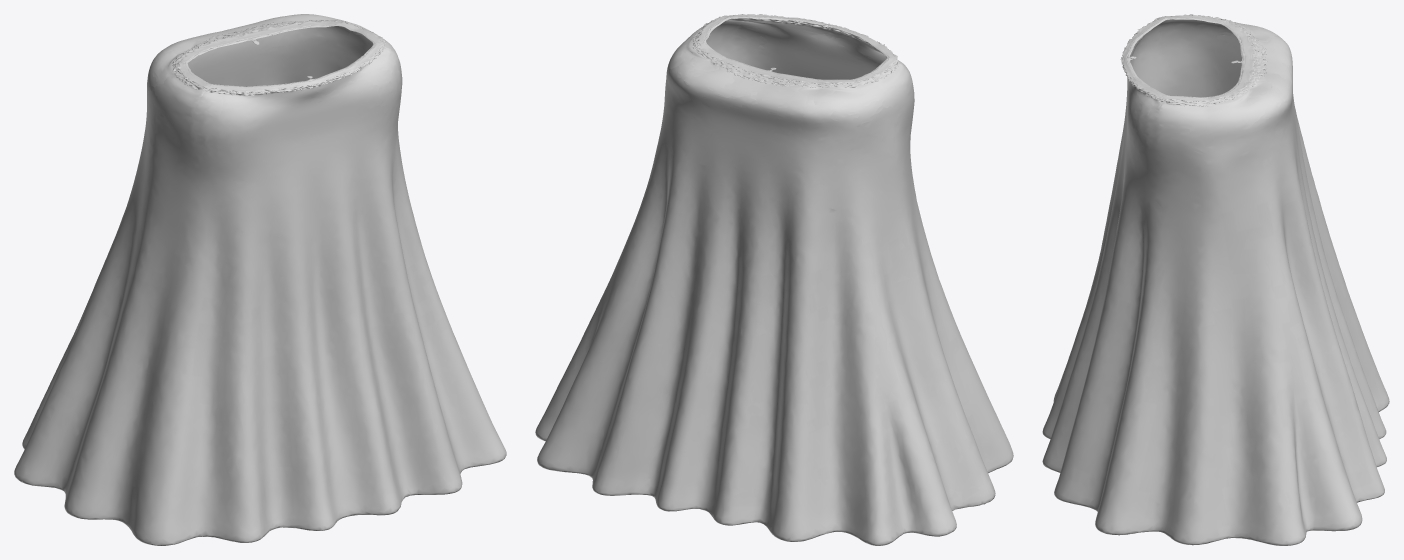
File: Funko Girl Bottom1.glb
3 renders of one model, left to right at view 1: azimuth 30°, elevation 25°; view 2: azimuth 150°, elevation 25°; view 3: azimuth 270°, elevation 25°, orthographic. The views are drawn at different scales.
Parts seen in each view (by area): view 1: geometry_0.001; view 2: geometry_0.001; view 3: geometry_0.001.
Part boxes in pixels (box(x1,y1,x2,y2)): geometry_0.001: box(14, 14, 506, 545); geometry_0.001: box(535, 14, 1013, 545); geometry_0.001: box(1042, 14, 1389, 545).
Bounding box in the file's own units: 0.4764 × 0.4405 × 0.3527.
1 material, 1 textured.
